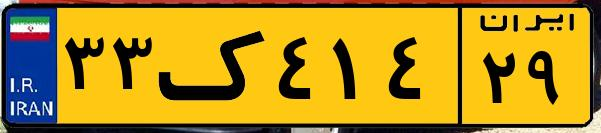1: (330, 28, 385, 110)
2: (475, 38, 525, 113)
3: (57, 26, 110, 100), (110, 28, 158, 98)
4: (270, 28, 330, 110), (385, 28, 445, 110)
9: (525, 38, 570, 115)
ک: (158, 12, 270, 120)
